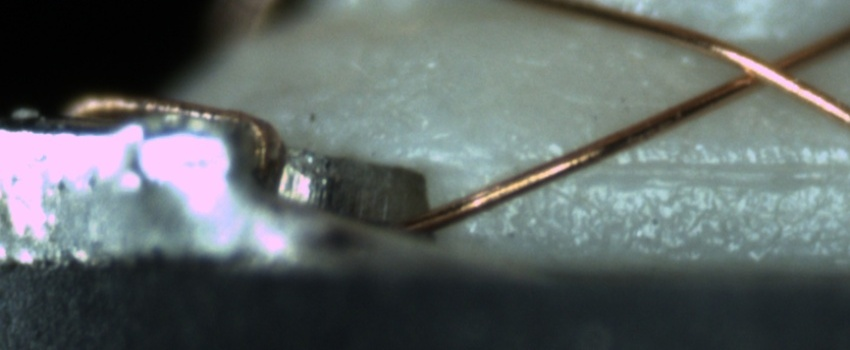CL: (721, 39, 818, 99)
DL: (512, 137, 850, 197)
TE: (59, 88, 286, 190)
